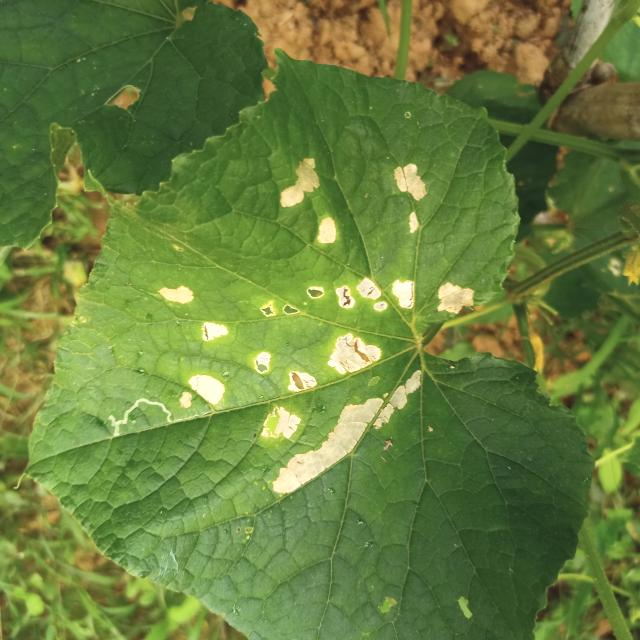disease_cucumber: (250, 329, 425, 497), (254, 264, 477, 329), (158, 284, 232, 408), (276, 151, 344, 248), (388, 151, 431, 236)
